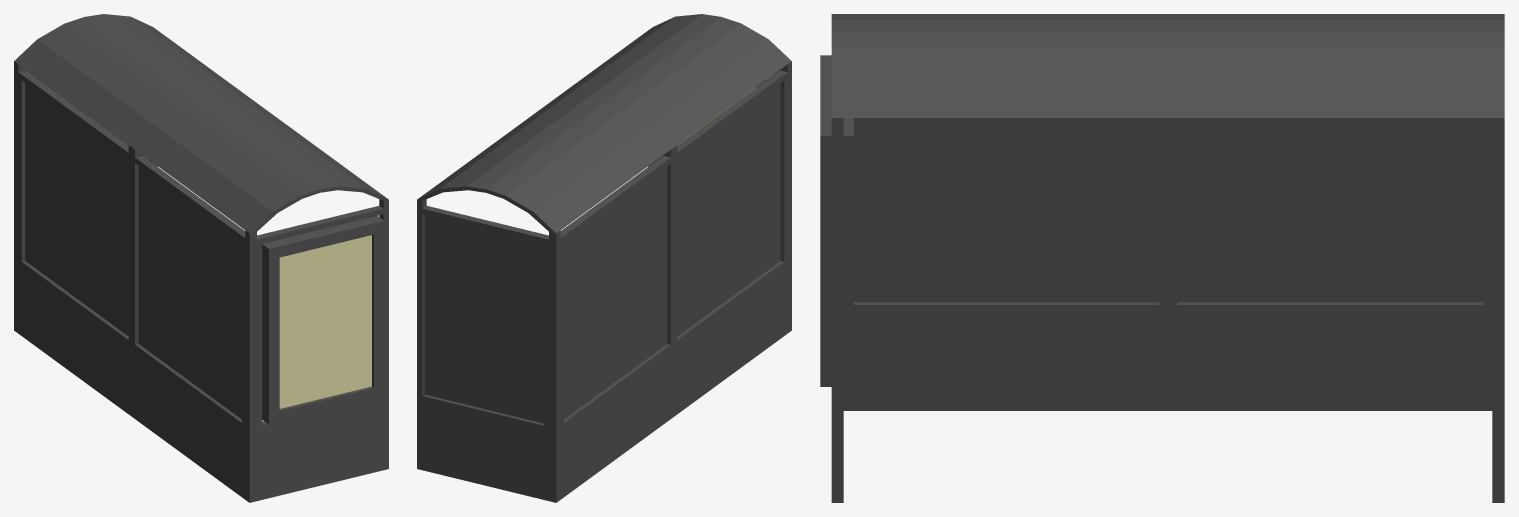
The model's file is Bus_stop.fbx.
3 views of the same model, side by side, from view 1: azimuth 30°, elevation 25°; view 2: azimuth 150°, elevation 25°; view 3: azimuth 270°, elevation 25° (orthographic). The views are drawn at different scales.
Parts seen in each view (by area): view 1: Остановка; view 2: Остановка; view 3: Остановка.
Boxes of the visible parts, x1,y1,x2,y2 form: Остановка: (14, 14, 388, 502); Остановка: (417, 14, 791, 502); Остановка: (820, 14, 1504, 502).
Size of the model in its own units: 200 by 407 by 596.
